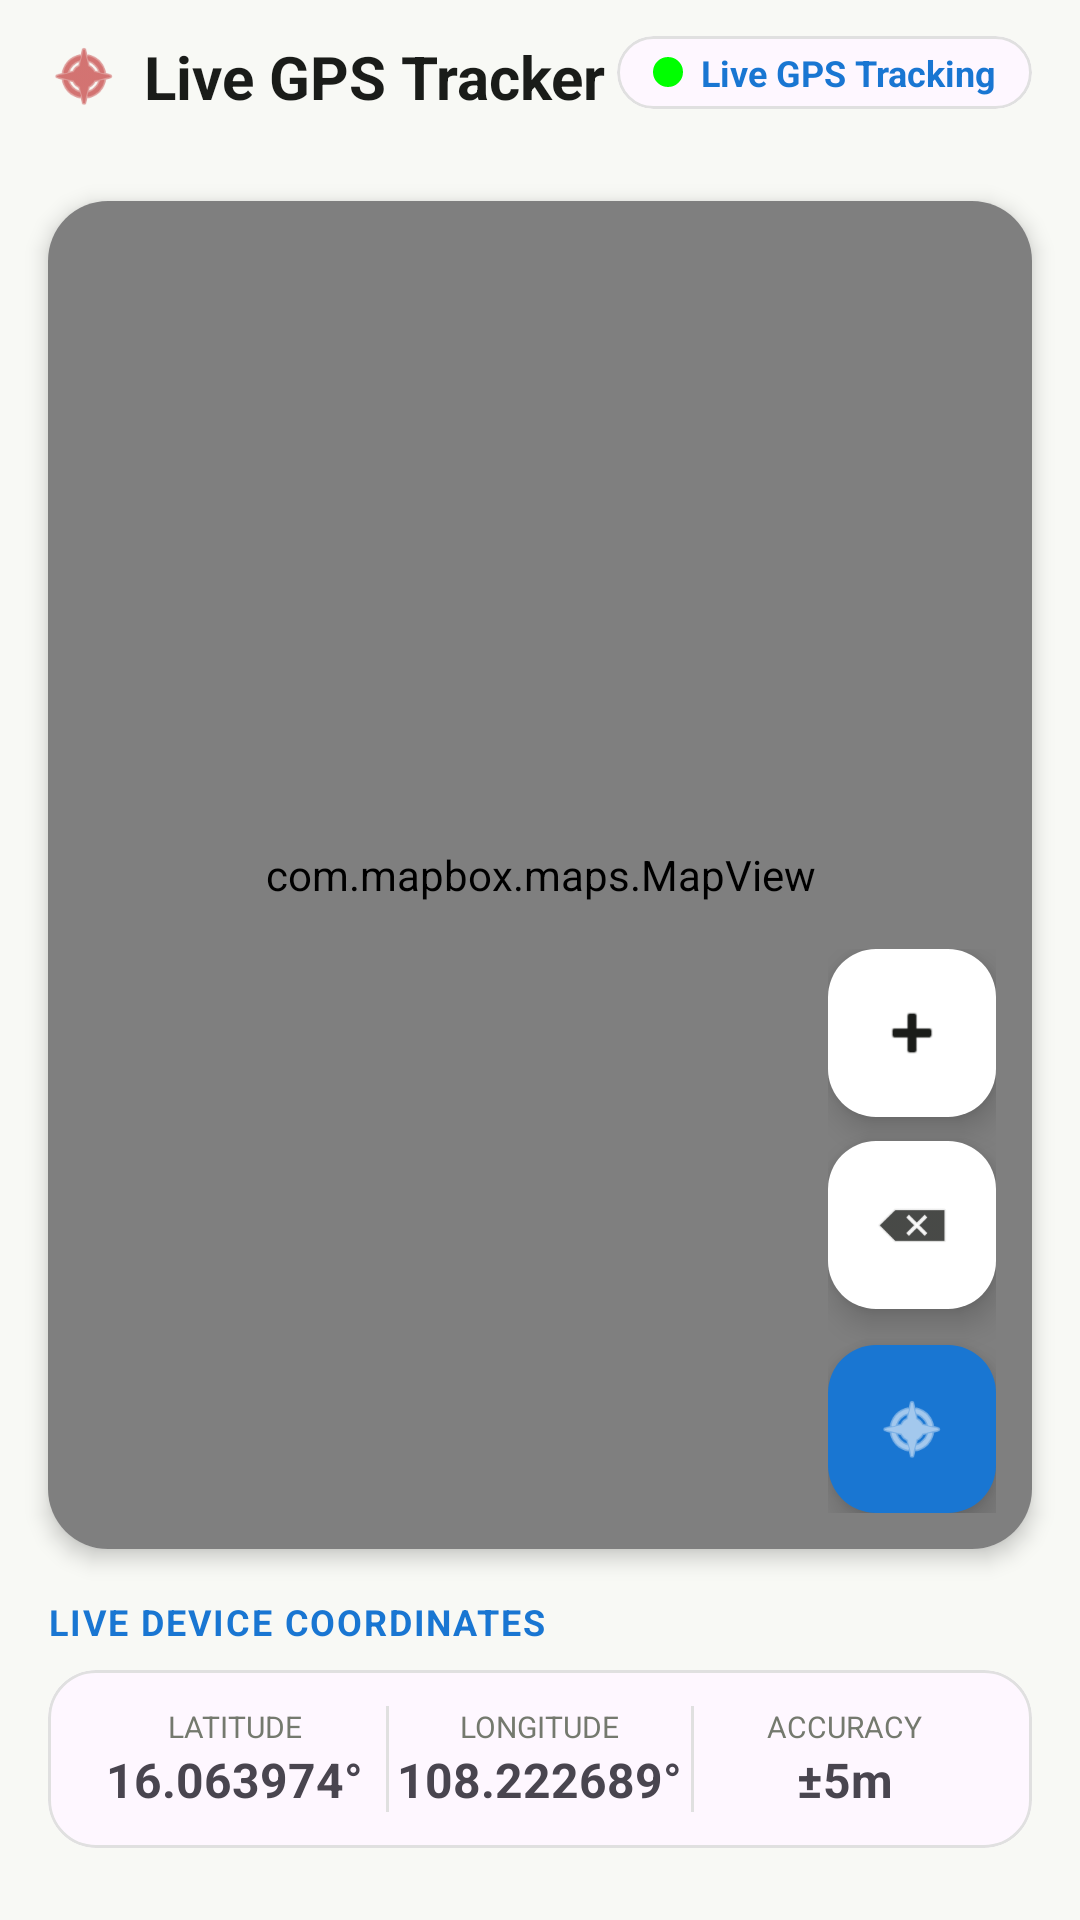

Where to tap for icons on this 1080px×1920px app screen, as (x=x, y=y):
add: (x=912, y=1033)
compass: (x=83, y=76), (x=912, y=1429)
delete: (x=912, y=1225)
